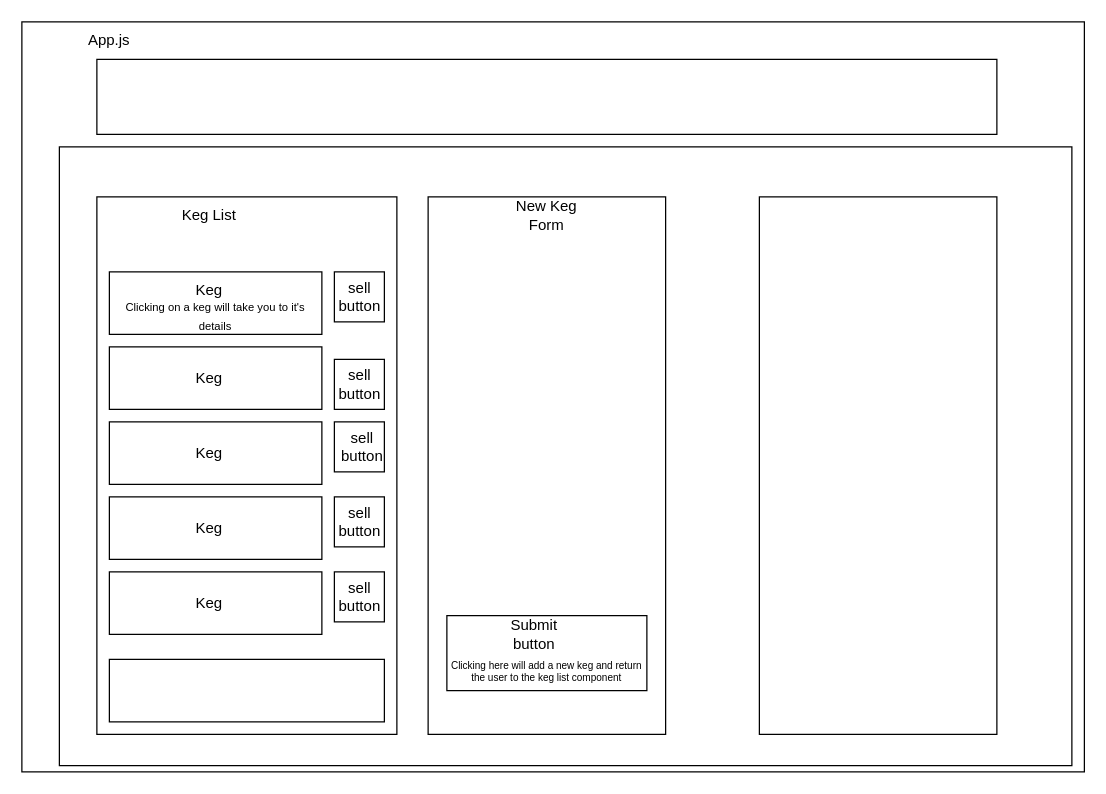
Some shapes in this 1106 by 794 pixel diagram are drawn without their labels. The shapes that lost their labels are listed below. From the top down, each one's centre as x and y in pixels, then its label:
At point 546,96: "Heading".
At point 877,465: "Keg Details".
At point 246,690: "New Ticket form".
